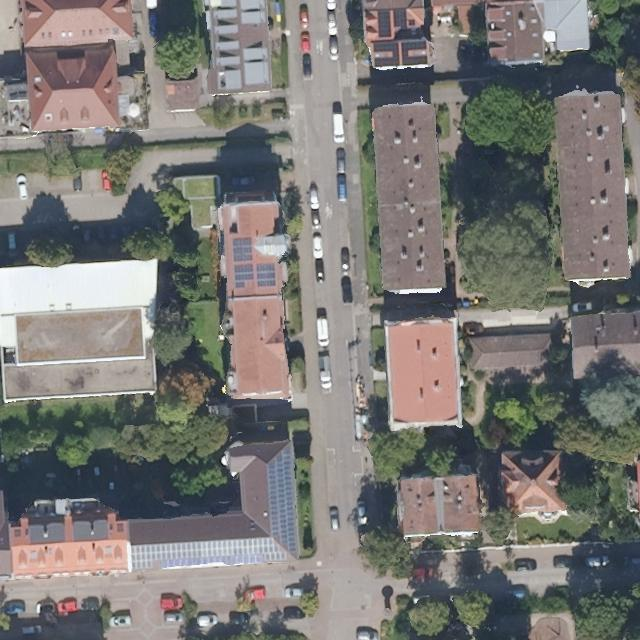PV: (129, 537, 287, 569), (265, 445, 298, 553), (372, 42, 400, 68), (401, 40, 428, 66), (233, 262, 255, 289), (257, 263, 274, 287), (233, 239, 251, 261), (378, 10, 391, 37), (394, 8, 405, 31)
